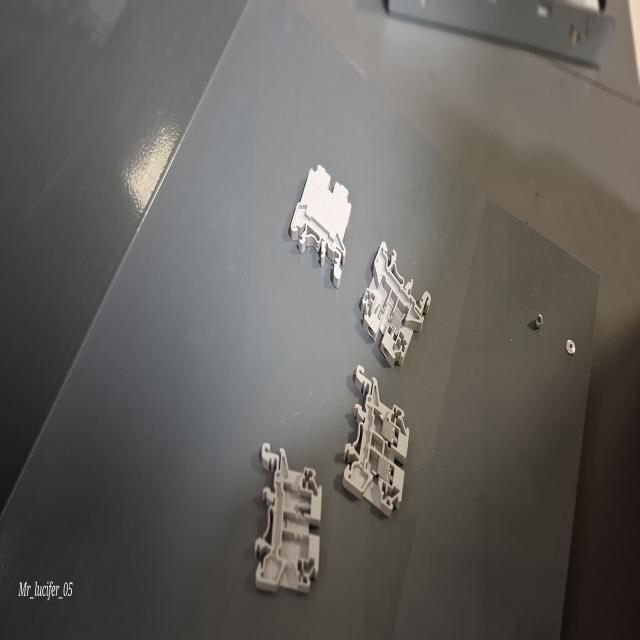Inverted: (288, 157, 352, 295)
Pass: (342, 360, 410, 526)
Reject: (256, 437, 324, 608), (360, 236, 432, 372)
